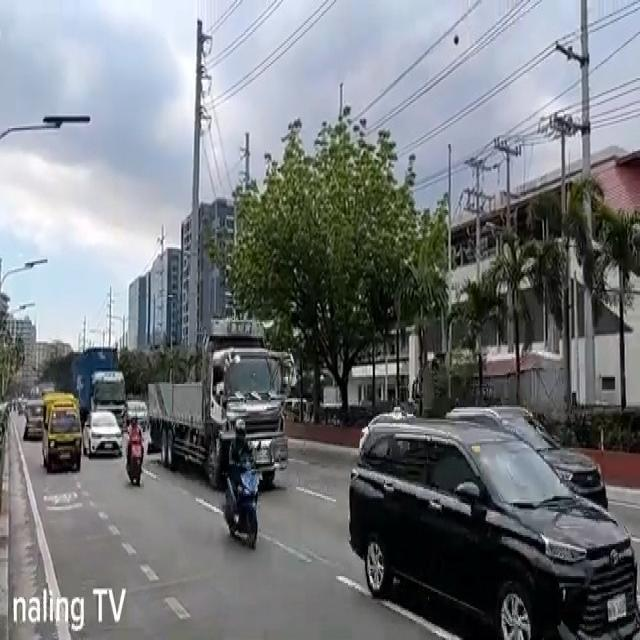car: (348, 416, 640, 640), (448, 404, 608, 520), (83, 411, 122, 460)
motorcycle: (221, 420, 260, 550), (123, 414, 146, 490)
truck: (148, 316, 290, 489), (74, 346, 125, 427)
